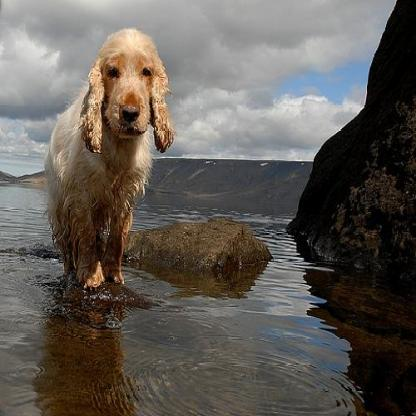cocker_spaniel: (42, 26, 175, 290)
